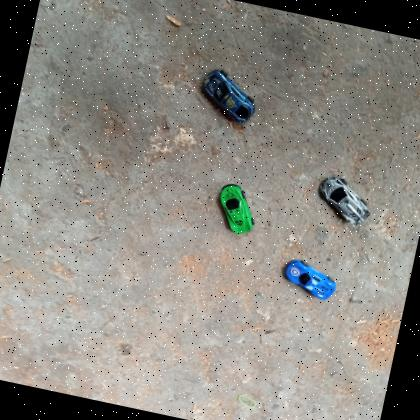Car: (195, 68, 262, 127), (312, 174, 376, 229), (212, 180, 264, 238), (281, 258, 341, 303)
